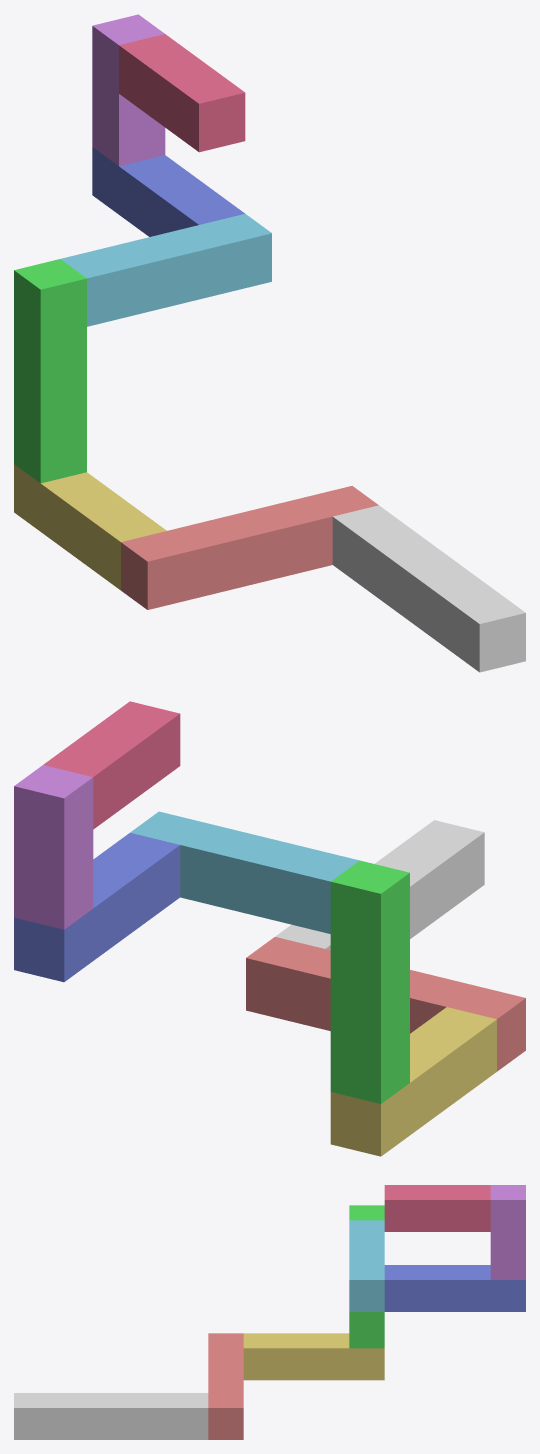
The model's file is ControlsDemoCourse.fbx.
The picture shows the model from 3 angles, top to bottom: view 1: azimuth 30°, elevation 25°; view 2: azimuth 150°, elevation 25°; view 3: azimuth 270°, elevation 25°; orthographic projection. The views are drawn at different scales.
Visible parts, largest first — view 1: Cube; view 2: Cube; view 3: Cube.
Boxes of the visible parts, x1,y1,x2,y2 form: Cube: [14, 14, 525, 672]; Cube: [14, 701, 525, 1156]; Cube: [14, 1185, 525, 1439].
Size of the model in its own units: 10000 by 15000 by 29000.
